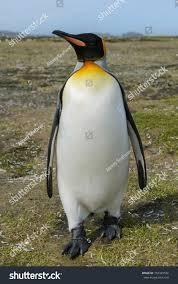king: (20, 12, 163, 267)
